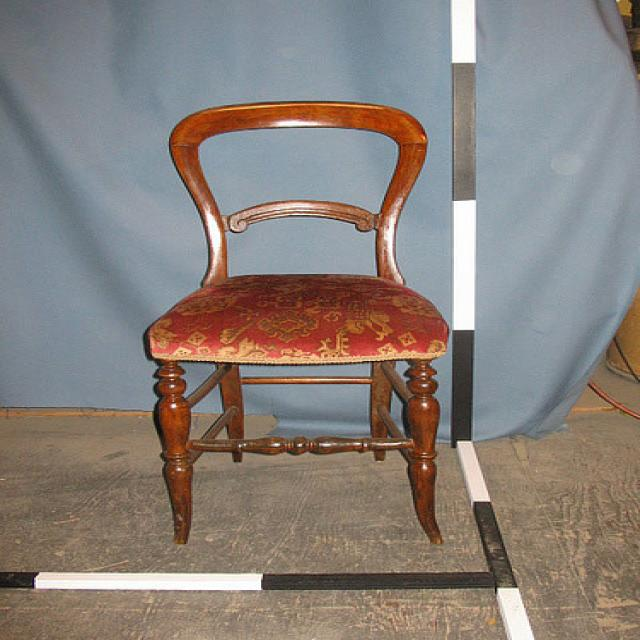chair: (142, 99, 449, 545)
